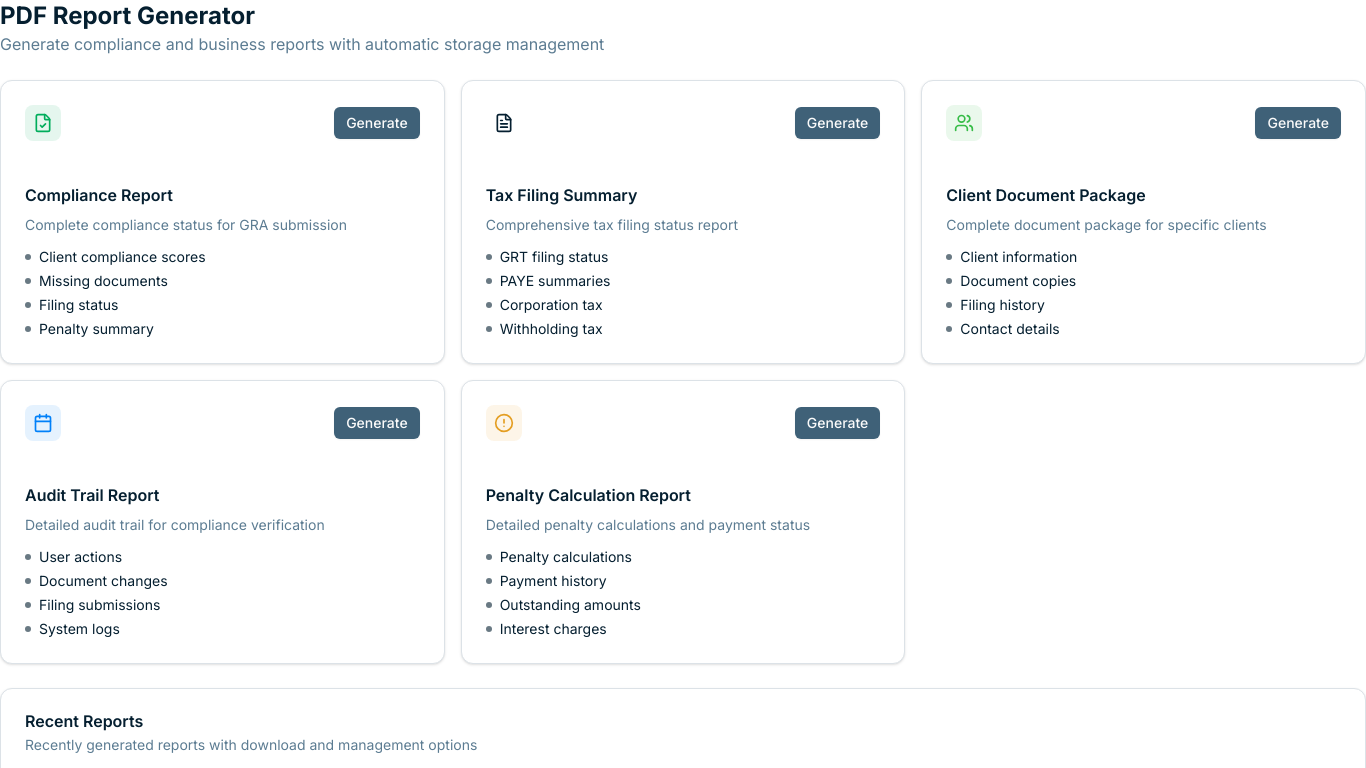
Test case: PDFReportInterface › should disable generate button when no clients selected
Click the 1st button "Generate": (377, 123) [334,107,420,139]
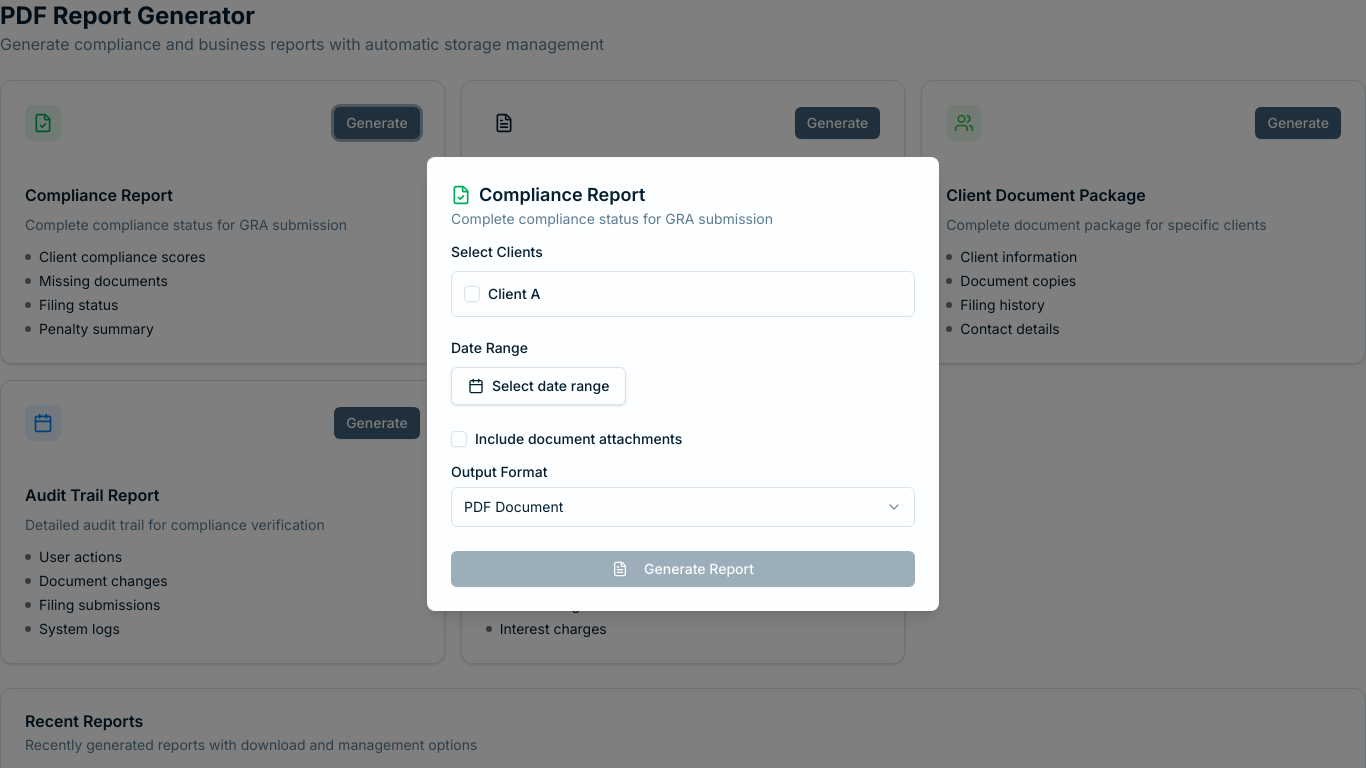
Check: the button "Generate Report" is disabled, box [451,551,915,587]
